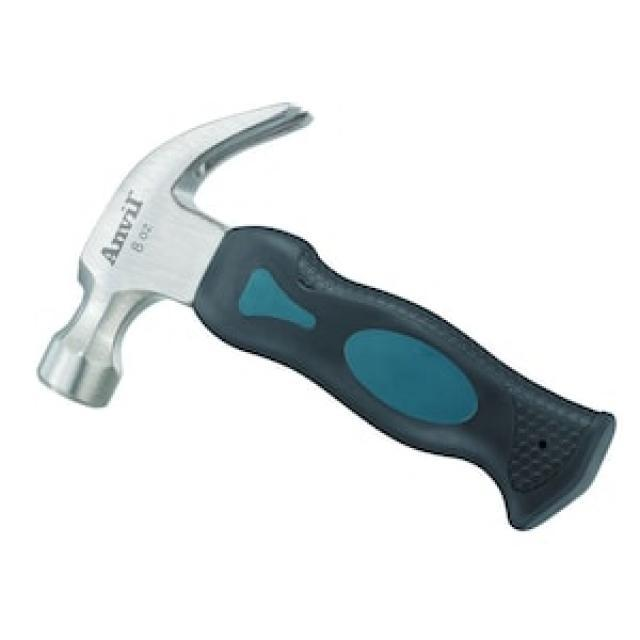hammer: (29, 92, 620, 534)
